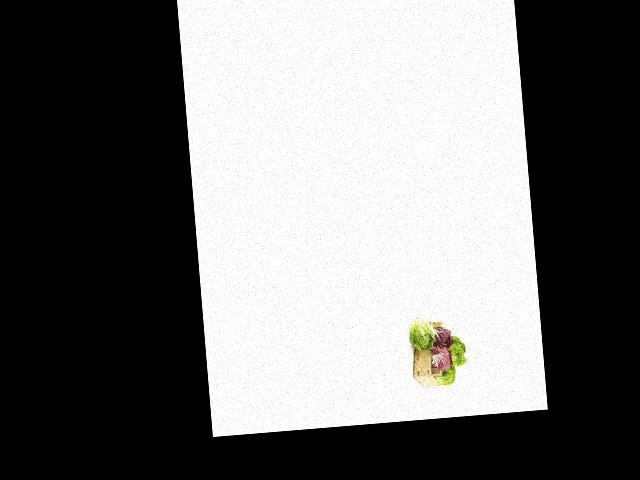lettuce: (443, 335, 467, 367)
